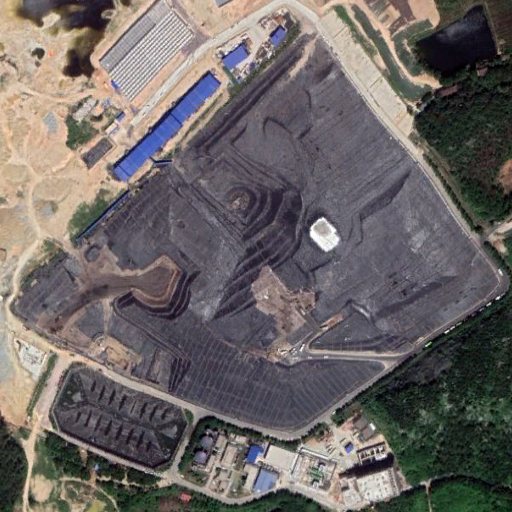lf: (13, 20, 502, 435)
